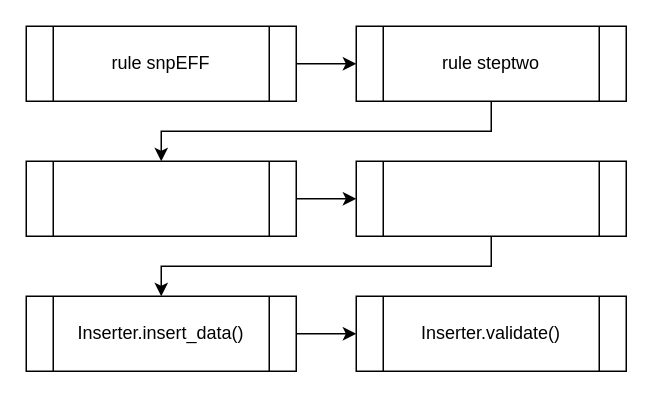
Image size: 653x398. Some labels were removed from this diagram. Here are the shapes that lost their labels. From the top down, the centre of each, then its label:
At point 160,198: "PdfReader.read_pdfs()".
At point 490,198: "VcfReader.read_vcfs()".
